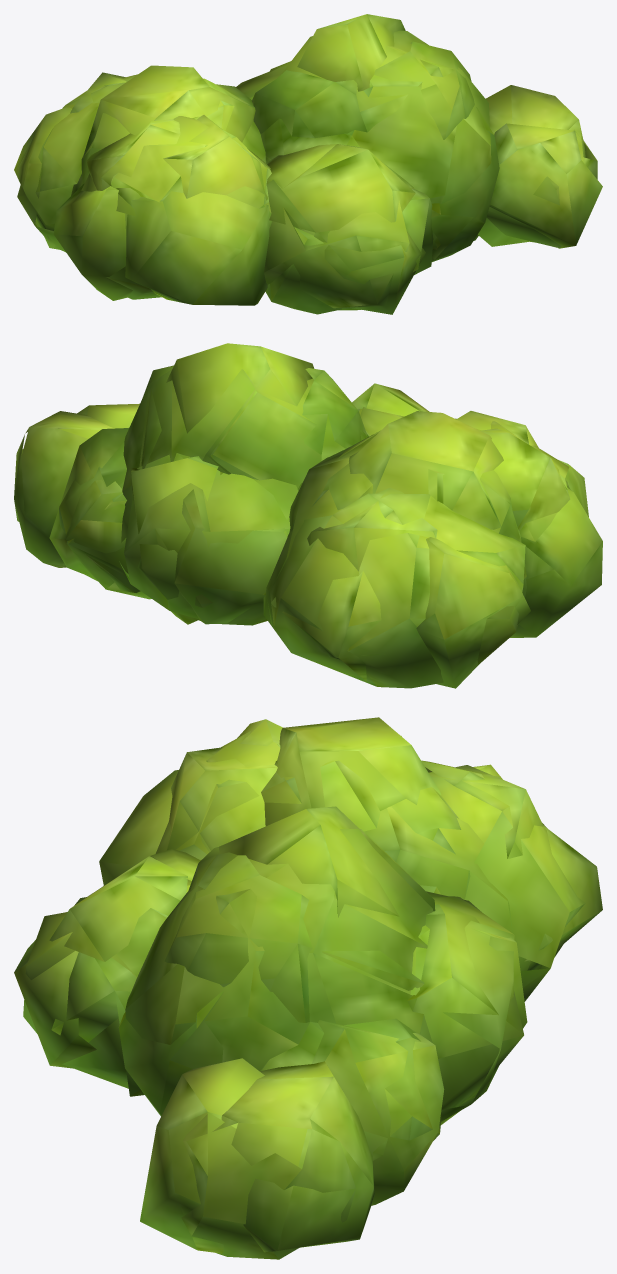
Rendered from bush_wide.glb.
The picture shows the model from 3 angles, top to bottom: view 1: azimuth 30°, elevation 25°; view 2: azimuth 150°, elevation 25°; view 3: azimuth 270°, elevation 25°; orthographic projection. The views are drawn at different scales.
Bounding box in the file's own units: 1 × 0.4588 × 0.7104.
Materials: 1 (1 with a texture image).
